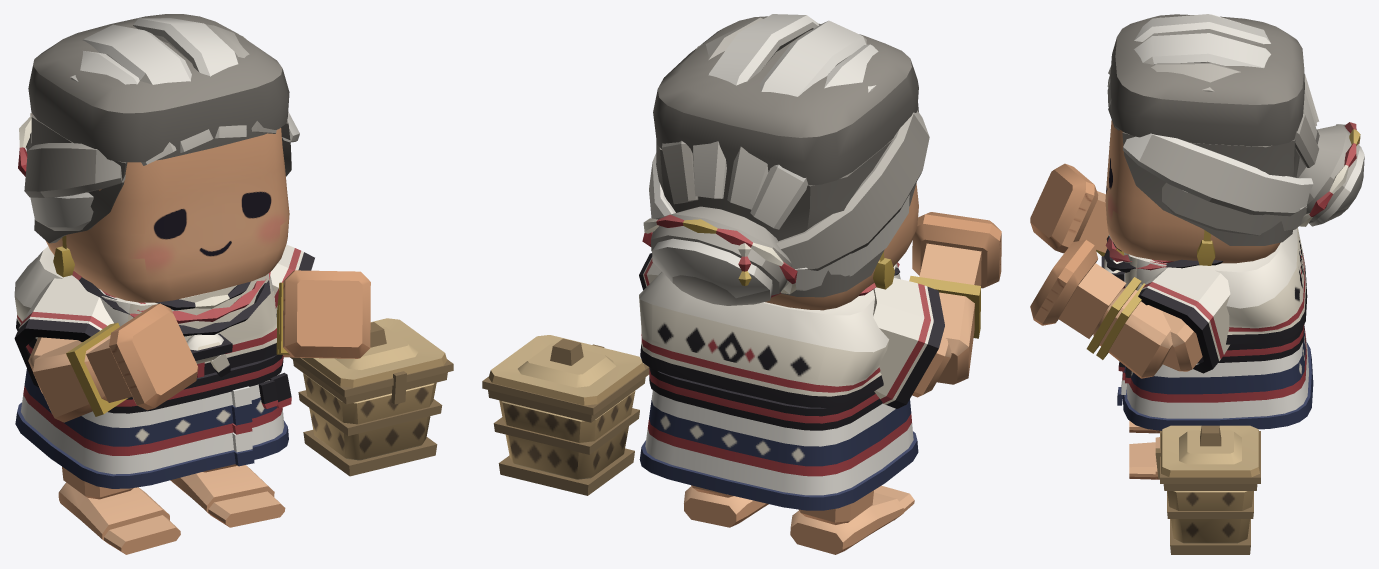
The model's file is audience_v2_elder_woman_clap.glb.
The picture shows the model from 3 angles, left to right: view 1: azimuth 30°, elevation 25°; view 2: azimuth 150°, elevation 25°; view 3: azimuth 270°, elevation 25°; orthographic projection. The views are drawn at different scales.
Parts seen in each view (by area): view 1: audience_v2_elder_woman_clap; view 2: audience_v2_elder_woman_clap; view 3: audience_v2_elder_woman_clap.
Part boxes in pixels (x1,y1,x2,y2): audience_v2_elder_woman_clap: [14, 14, 453, 554]; audience_v2_elder_woman_clap: [482, 14, 1001, 554]; audience_v2_elder_woman_clap: [1030, 14, 1364, 554].
Bounding box in the file's own units: 0.6214 × 0.6716 × 0.4868.
1 material, 1 textured.
